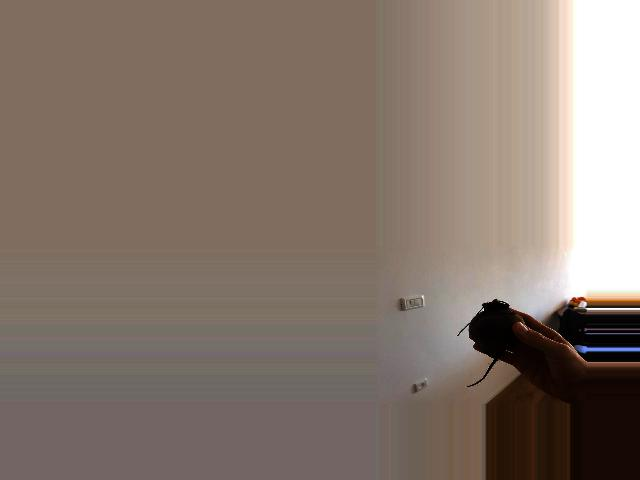beet: (456, 299, 525, 387)
